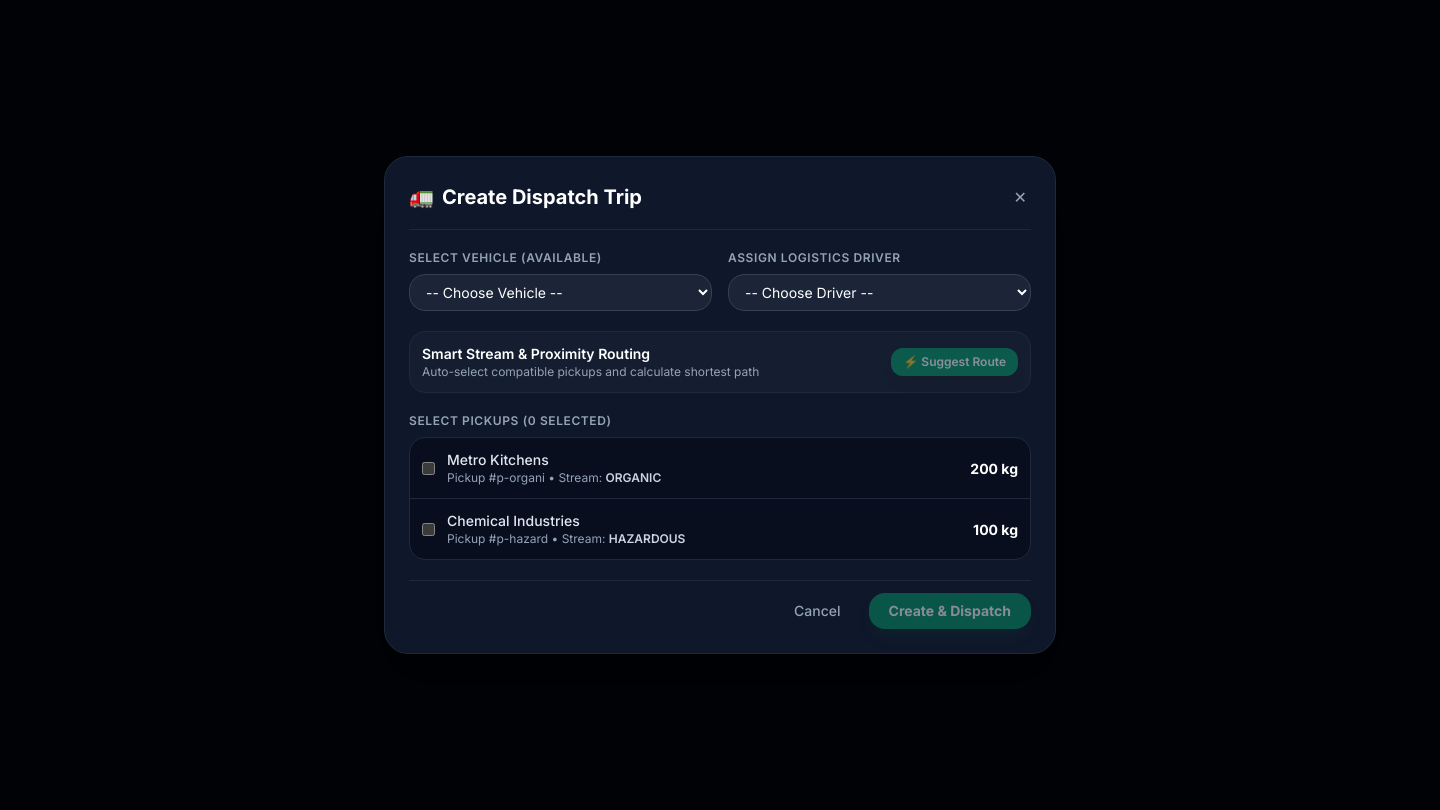
TripCreateModal Component › locks waste stream and prevents incompatible pickup selection
The image size is (1440, 810).
Select organic pickup
Click the text "Metro Kitchens": (498, 460) [447, 451, 549, 468]
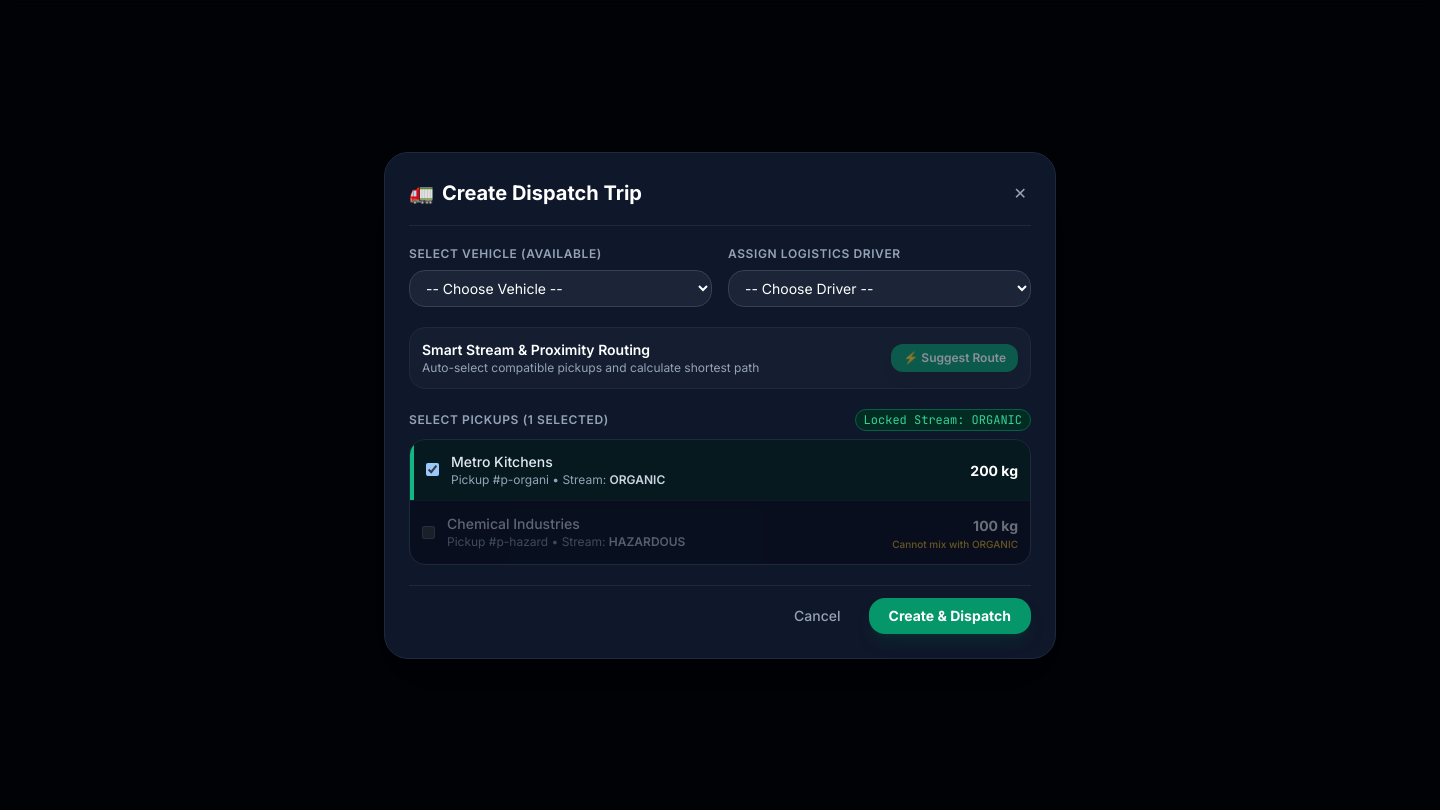
Expected: the text "Locked Stream: ORGANIC" is shown, [855, 408, 1031, 430]
Expected: the text "Cannot mix with ORGANIC" is shown, [892, 536, 1018, 552]
